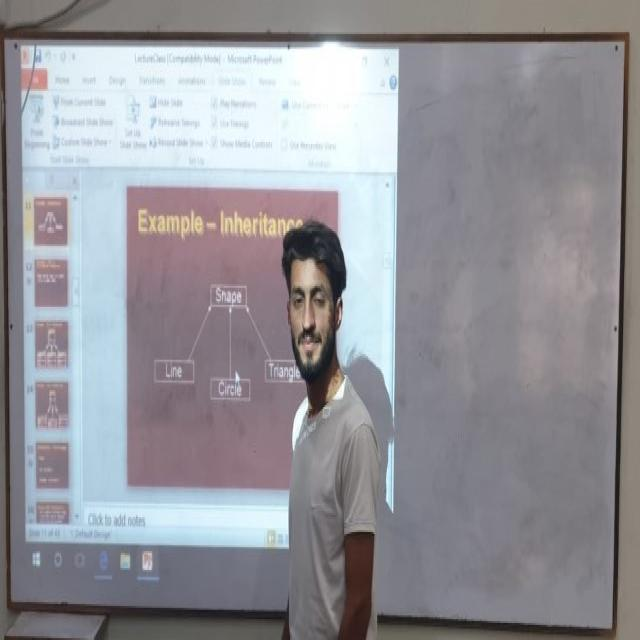Instructor: (259, 210, 382, 617)
Slide: (19, 42, 400, 589)
White-board: (4, 30, 625, 632)
